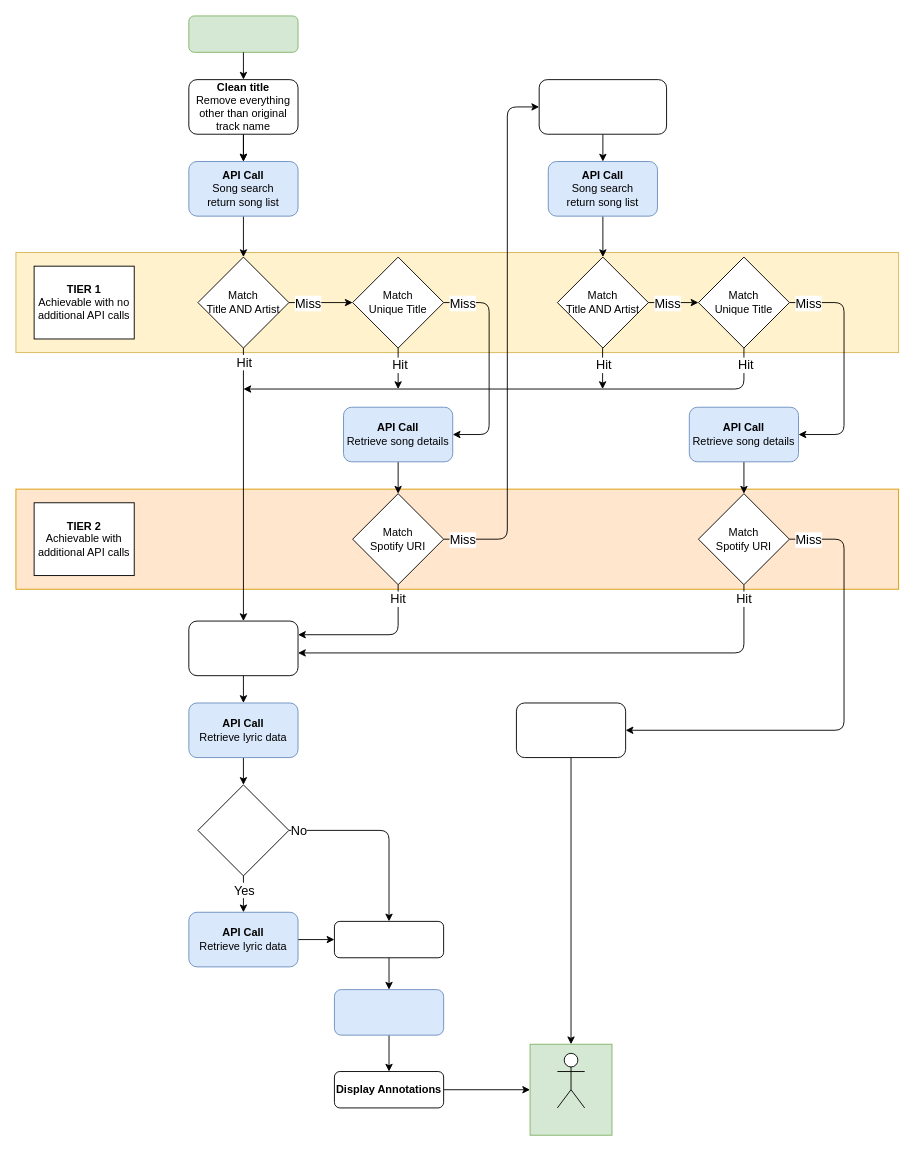
Some shapes in this 915 by 1151 pixel diagram are drawn without their labels. The shapes that lost their labels are listed below. From the top down, each one's centre as x and y in pixels, then its label:
At pixel 243 33: "Get spotify data".
At pixel 602 106: "Fallback Search Genius using uncleaned track name".
At pixel 243 648: "Match accepted!".
At pixel 571 730: "No match found Inform user".
At pixel 243 830: "Translation Requested".
At pixel 389 939: "Display Lyrics".
At pixel 389 1012: "API Call Retrieve Annotations".
At pixel 570 1080: "Music Enjoyer".
